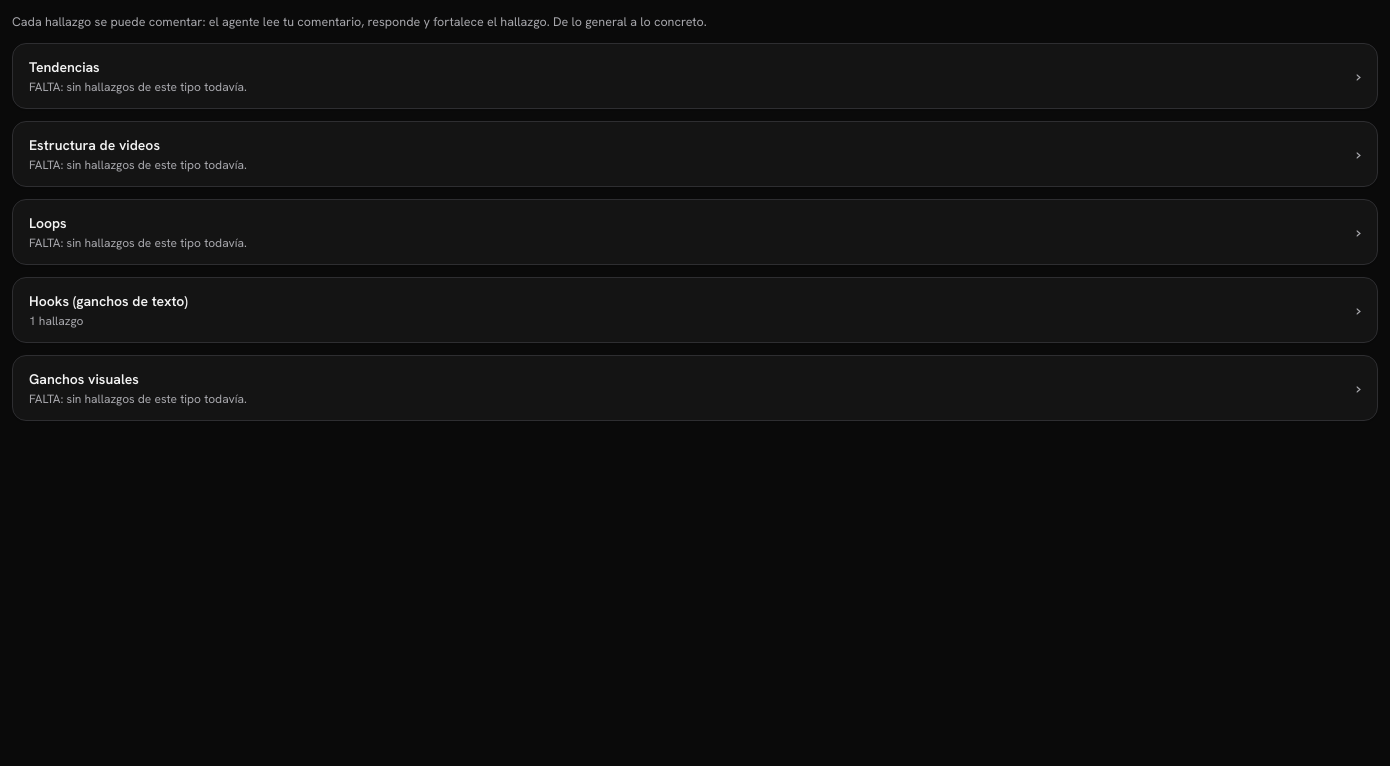
InvestigacionInteractiva › muestra el hilo con la respuesta del agente y cuenta lo que el agente no contestó
Click the button "Hooks (ganchos de texto) 1 hallazgo ›" at (108, 301), box top-left (13, 278), bottom-right (1377, 342)
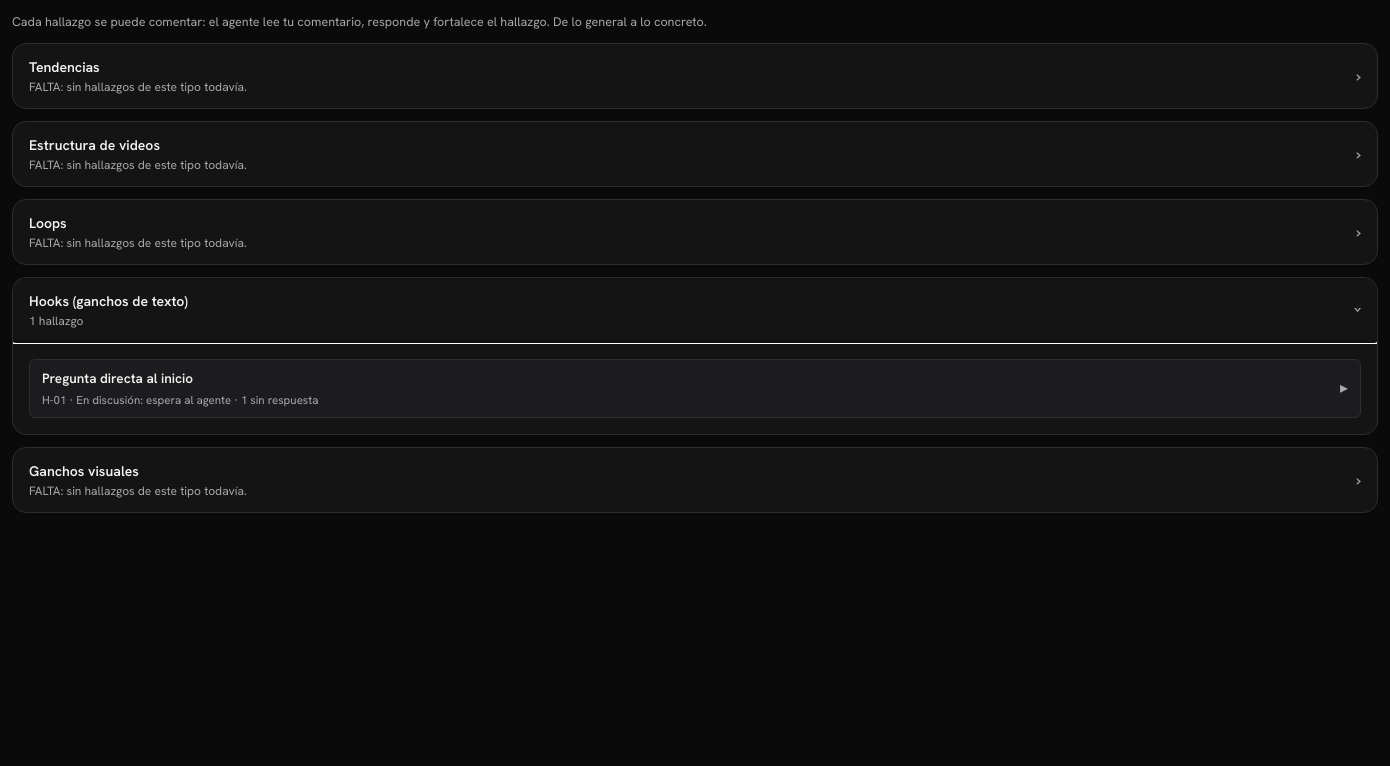
Now the text "H-01 · En discusión: espera al agente · 1 sin respuesta" is shown, box top-left (42, 391), bottom-right (318, 409)
Click the button "Pregunta directa al inicio" at (117, 378), box top-left (30, 360), bottom-right (1360, 417)
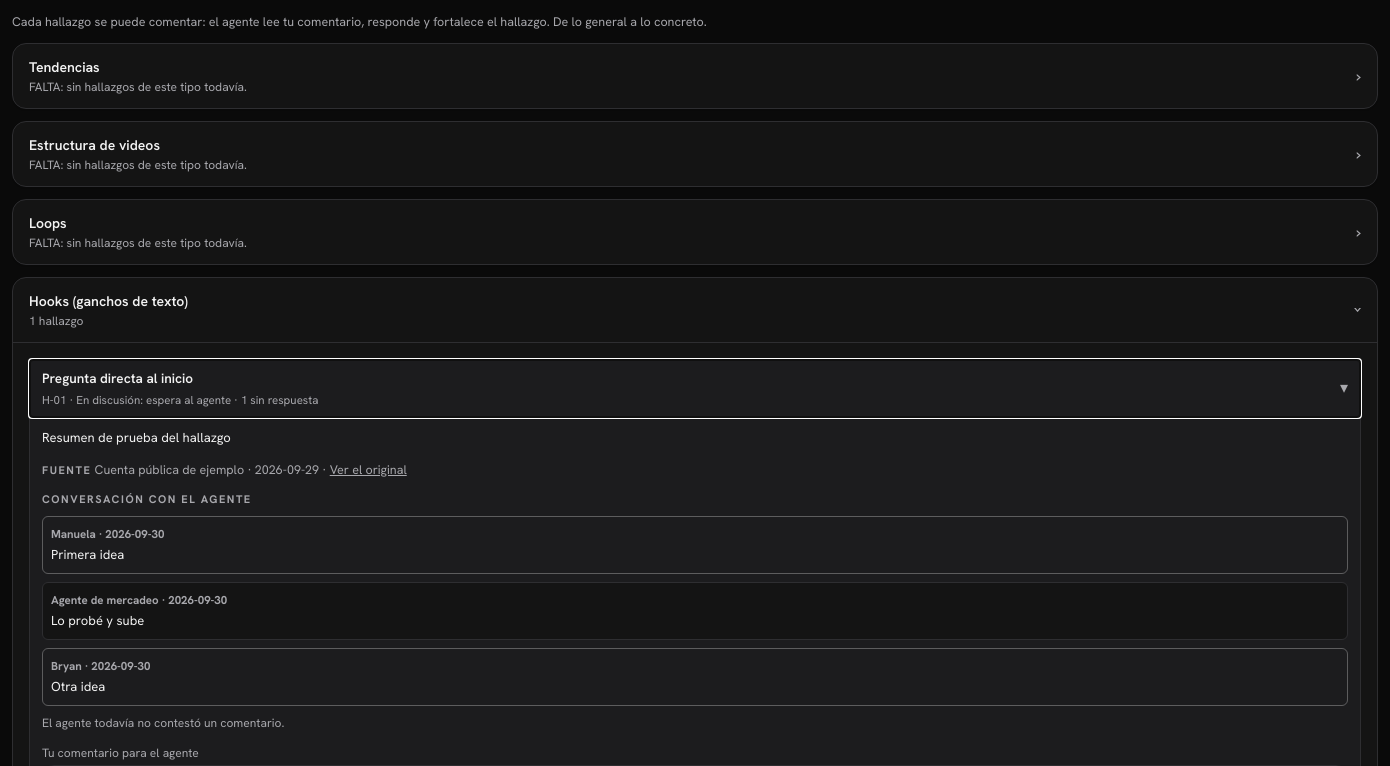
Now the text "Lo probé y sube" is shown, box top-left (51, 612), bottom-right (144, 629)
Now the text "Agente de mercadeo · 2026-09-30" is shown, box top-left (51, 593), bottom-right (227, 608)
Now the text "El agente todavía no contestó un comentario." is shown, box top-left (42, 716), bottom-right (284, 732)
